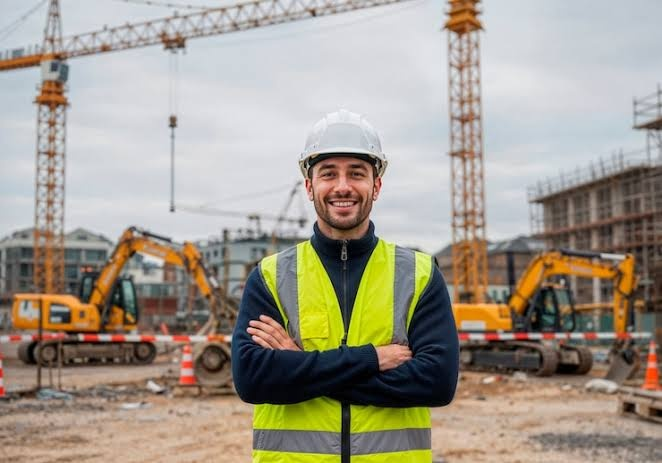crane: (3, 4, 267, 299)
excavator: (7, 216, 232, 360), (440, 242, 647, 365)
hardhat: (283, 108, 389, 168)
person: (215, 104, 489, 461)
safety_cone: (174, 341, 211, 391), (642, 337, 660, 400)
safety_vest: (248, 248, 454, 457)
